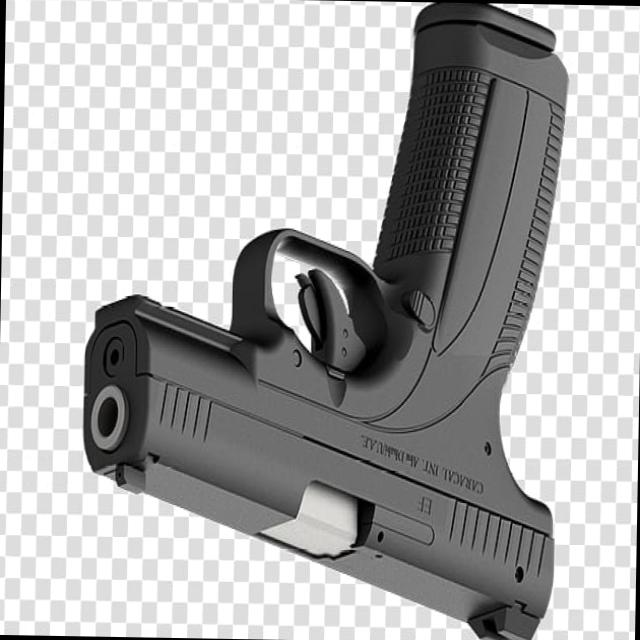Gun: (66, 0, 597, 640)
